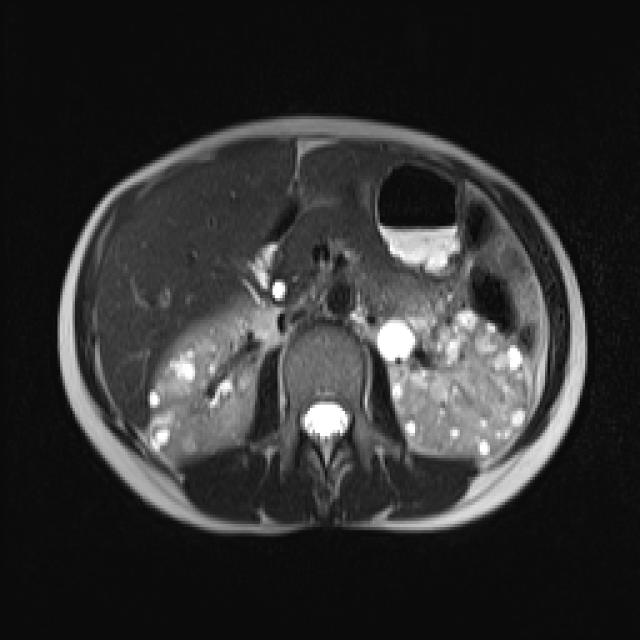sag: (148, 309, 258, 461)
sol: (378, 308, 526, 459)
